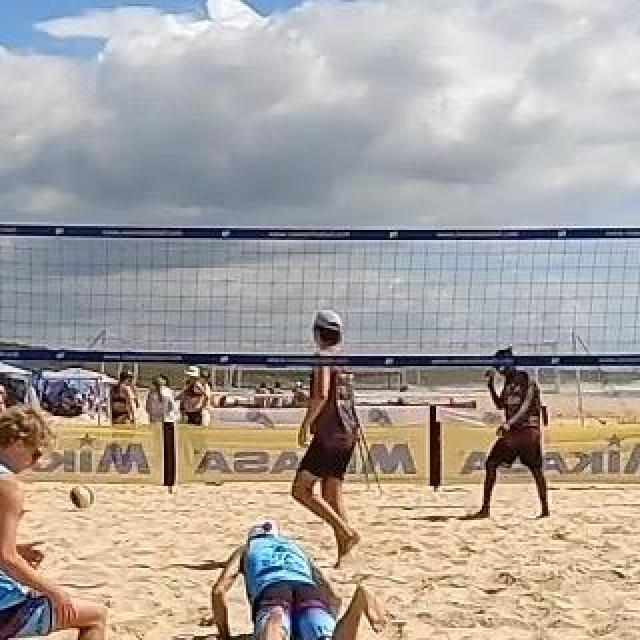volleyball: (70, 485, 94, 509)
